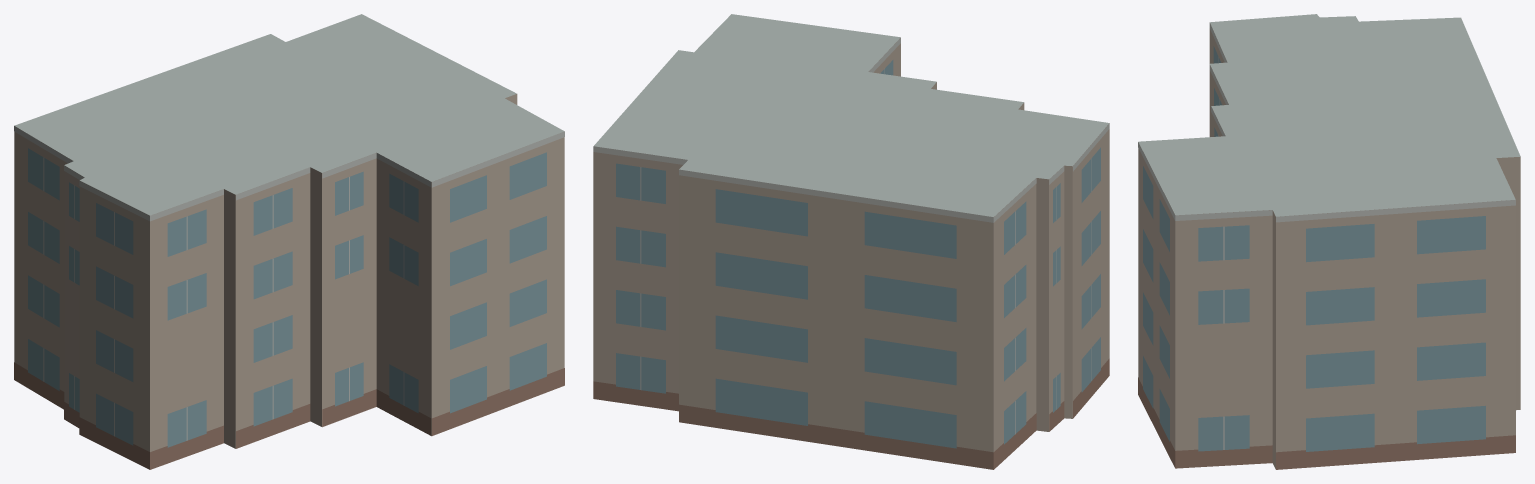
Rendered from survey-upis-32577501.glb.
3 views of the same model, side by side, from view 1: azimuth 30°, elevation 25°; view 2: azimuth 150°, elevation 25°; view 3: azimuth 270°, elevation 25° (orthographic).
Parts seen in each view (by area): view 1: survey-upis-32577501.tmp; view 2: survey-upis-32577501.tmp; view 3: survey-upis-32577501.tmp.
Part boxes in pixels (x1=…): survey-upis-32577501.tmp: x1=14, y1=14, x2=564, y2=469; survey-upis-32577501.tmp: x1=593, y1=14, x2=1109, y2=469; survey-upis-32577501.tmp: x1=1138, y1=14, x2=1520, y2=469.
Size of the model in its own units: 18.56 by 10.8 by 14.8.
